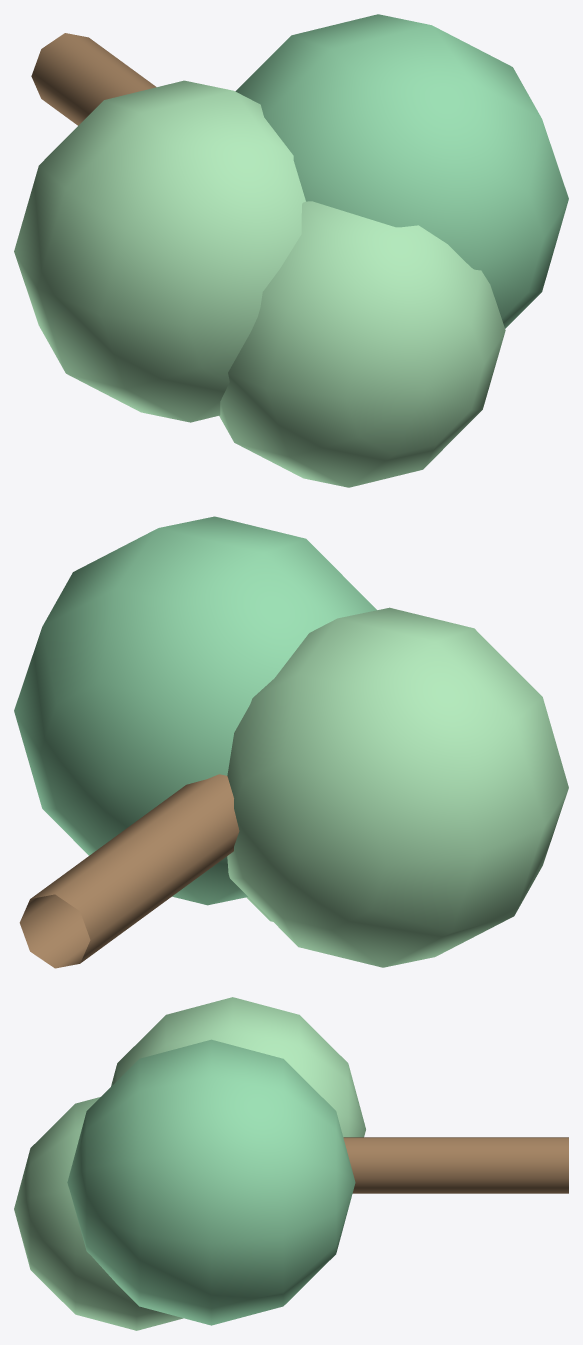
Rendered from tree-broadleaf.glb.
3 views of the same model, one above another, from view 1: azimuth 30°, elevation 25°; view 2: azimuth 150°, elevation 25°; view 3: azimuth 270°, elevation 25° (orthographic). The views are drawn at different scales.
Size of the model in its own units: 4.1 by 2.98 by 5.2.
